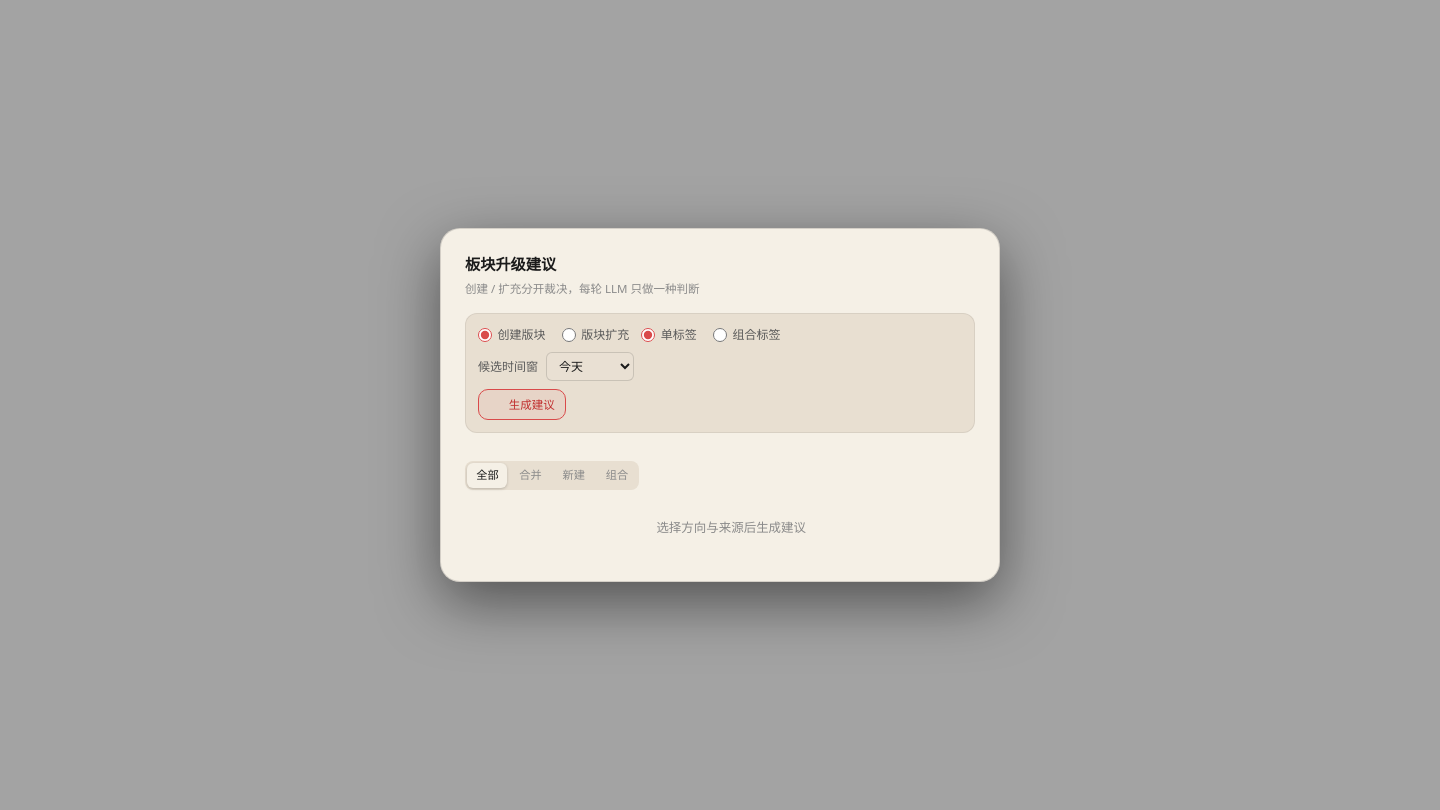
Test: UpgradeSuggestionPanel — 生成入口模式选择（split-board-upgrade-directions 6.4） › 空态区分：未生成过显示引导；hasGenerated 后显示无建议
The width and height of the screenshot is (1440, 810).
Check: the element with class "usp-persisted-empty" reads "选择方向与来源后生成建议", box [656, 519, 806, 536]
Click the button with test id "gen-submit".
click(522, 404)  # box [478, 389, 566, 420]
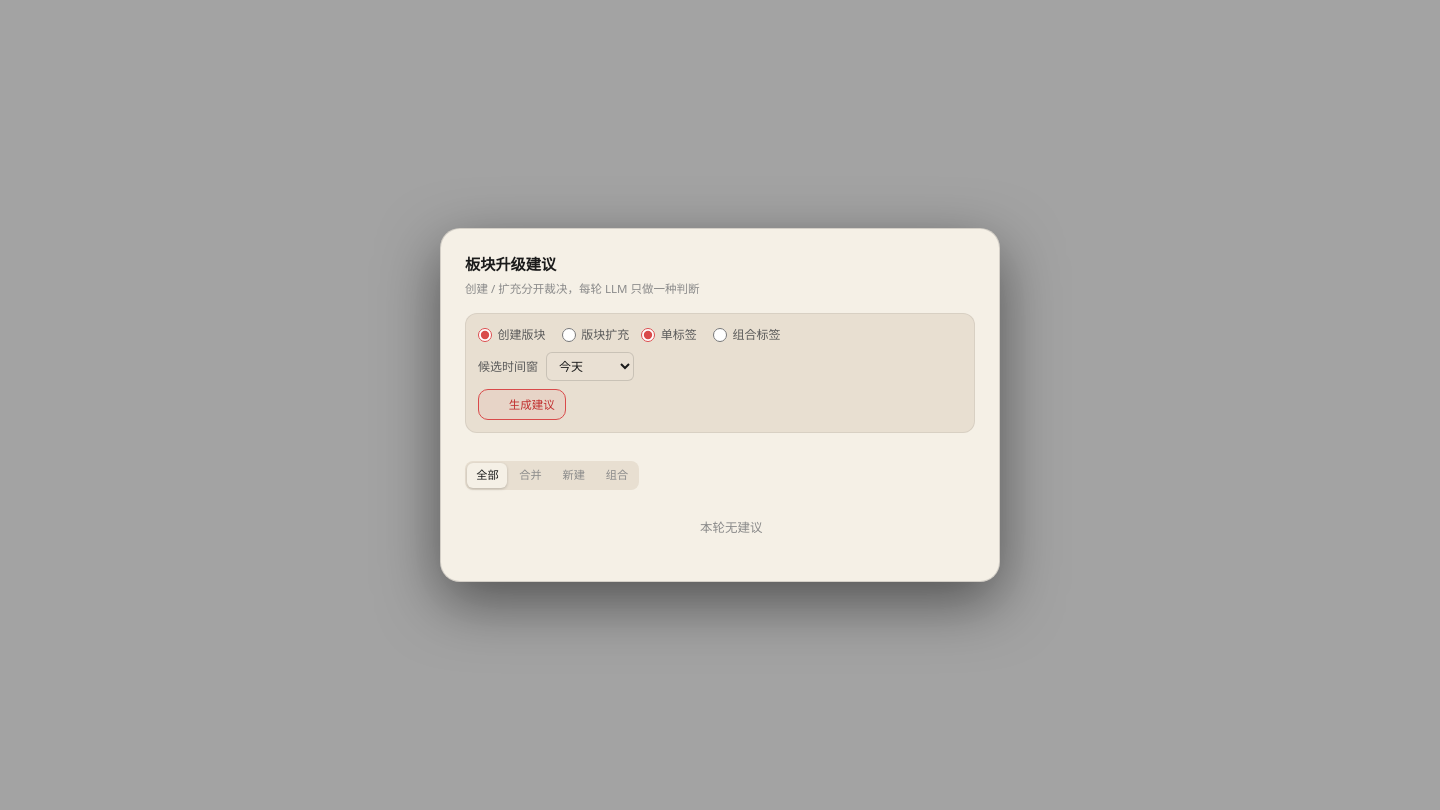
Check: the element with class "usp-persisted-empty" reads "本轮无建议", box [700, 519, 762, 536]
